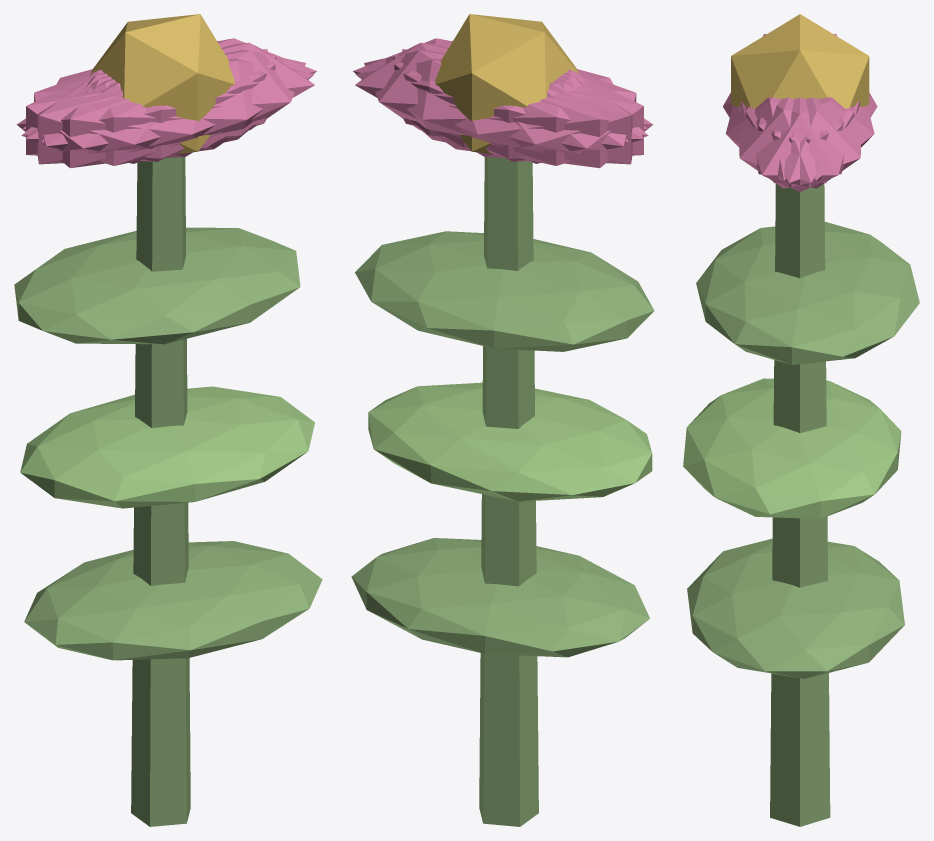
File: goeppertia-picturata.glb
The picture shows the model from 3 angles, left to right: view 1: azimuth 30°, elevation 25°; view 2: azimuth 150°, elevation 25°; view 3: azimuth 270°, elevation 25°; orthographic projection.
Parts seen in each view (by area): view 1: leaf1, leaf0, leaf2, stem, center, petal1, petal6, petal2, petal5, petal7, petal0, petal4 (+2 smaller); view 2: leaf2, stem, leaf0, leaf1, center, petal8, petal3, petal7, petal4, petal2, petal0, petal5 (+2 smaller); view 3: leaf2, leaf0, leaf1, stem, center, petal0, petal5, petal4, petal1, petal8.
Part boxes in pixels (x1,y1,x2,y2): leaf1: (20, 386, 314, 508); leaf0: (24, 541, 322, 660); leaf2: (14, 227, 300, 344); stem: (131, 157, 190, 826); center: (90, 14, 234, 153); petal1: (21, 58, 313, 165); petal6: (16, 71, 228, 168); petal2: (37, 49, 267, 164); petal5: (41, 50, 305, 158); petal7: (26, 55, 276, 161); petal0: (90, 42, 314, 148); petal4: (23, 38, 316, 139); leaf2: (355, 231, 654, 351); stem: (479, 157, 538, 826); leaf0: (351, 538, 649, 657); leaf1: (368, 382, 652, 501); center: (435, 14, 579, 154); petal8: (356, 58, 648, 165); petal3: (441, 71, 653, 168); petal7: (402, 49, 632, 164); petal4: (364, 50, 628, 158); petal2: (393, 55, 643, 161); petal0: (355, 42, 579, 148); petal5: (353, 38, 646, 139); leaf2: (696, 221, 919, 364); leaf0: (687, 538, 904, 678); leaf1: (683, 378, 901, 518); stem: (770, 184, 830, 826); center: (731, 14, 869, 108); petal0: (740, 97, 859, 191); petal5: (739, 97, 854, 188); petal4: (746, 97, 861, 188); petal1: (725, 97, 843, 180); petal8: (756, 97, 874, 180).
Bounding box in the file's own units: 0.1452 × 0.3809 × 0.1046.
